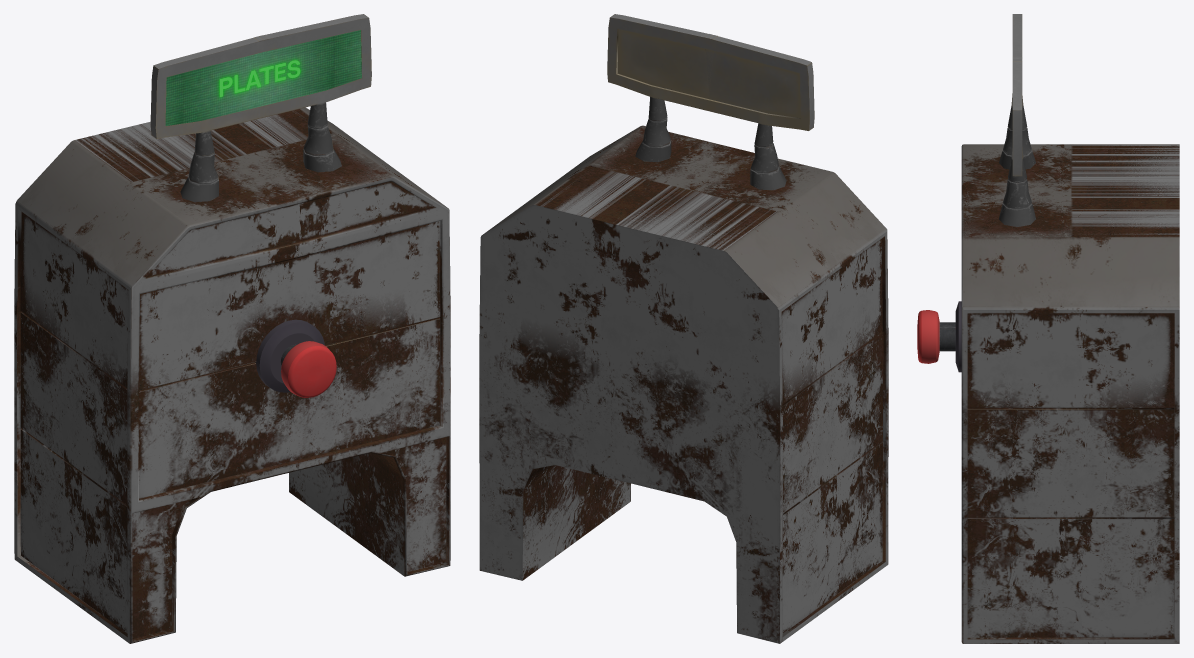
The model's file is PlateTextureMa.fbx.
3 views of the same model, side by side, from view 1: azimuth 30°, elevation 25°; view 2: azimuth 150°, elevation 25°; view 3: azimuth 270°, elevation 25° (orthographic). The views are drawn at different scales.
Parts seen in each view (by area): view 1: Plane, Plane.003, Circle; view 2: Plane; view 3: Plane, Circle.
Part boxes in pixels (box(x1,y1,x2,y2)): Plane: box(14, 14, 450, 643); Plane.003: box(165, 30, 361, 125); Circle: box(255, 319, 336, 397); Plane: box(479, 14, 888, 643); Plane: box(961, 14, 1179, 643); Circle: box(917, 301, 961, 372).
Size of the model in its own units: 57.66 by 93.68 by 43.57.
Materials: 3 (3 with a texture image).
